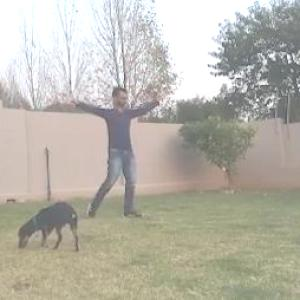takeoff: (27, 82, 158, 231)
